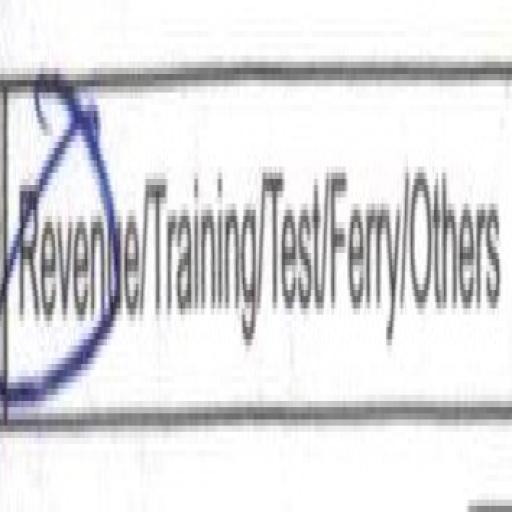check: (0, 37, 140, 450)
